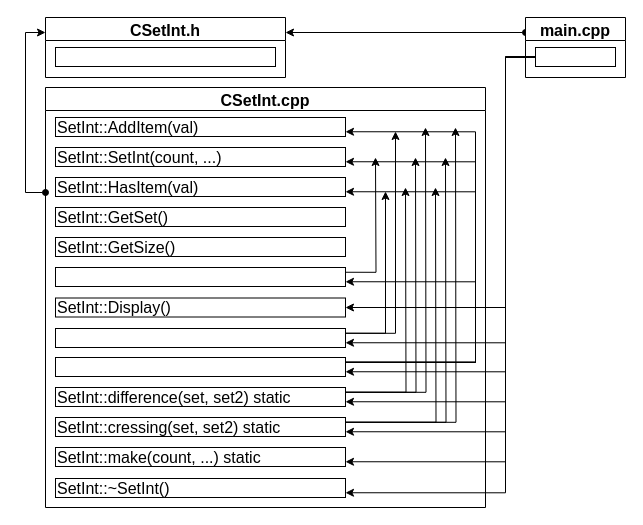
The diagram is 643 pixels wide and 525 high, and some of its shapes have lost their labels. Each missing label, with the centre of its shape:
"class SetInt" goes at [165,56].
"main()" goes at [575,56].
"SetInt::Copy()" goes at [200,276].
"SetInt::merge(set, set2) static" goes at [200,366].
"SetInt::Read()" goes at [200,338].
